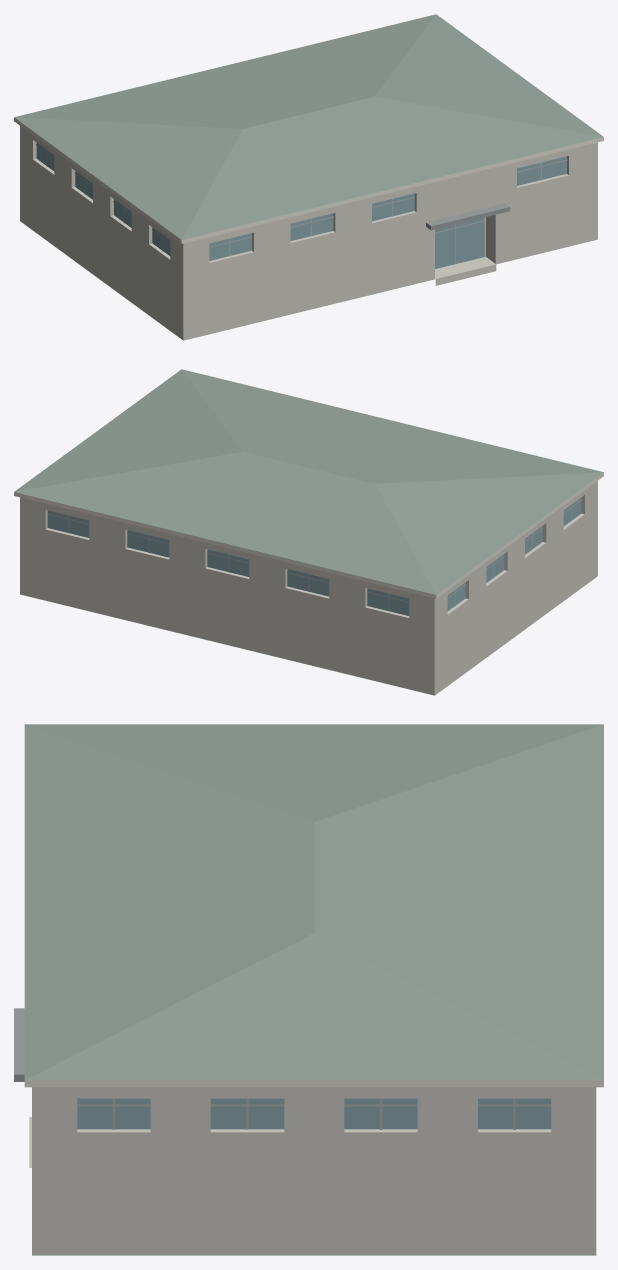
3 renders of one model, top to bottom at view 1: azimuth 30°, elevation 25°; view 2: azimuth 150°, elevation 25°; view 3: azimuth 270°, elevation 25°, orthographic. The views are drawn at different scales.
Parts seen in each view (by area): view 1: geotech__roof, geotech__wall, geotech__glass, geotech__trim, geotech__entranceThreshold_0, geotech__frame, geotech__canopy; view 2: geotech__roof, geotech__wall, geotech__glass, geotech__trim, geotech__frame; view 3: geotech__roof, geotech__wall, geotech__glass, geotech__trim, geotech__frame, geotech__canopy.
Part boxes in pixels (<box>): geotech__roof: <box>14,14,603,340</box>; geotech__wall: <box>20,126,597,340</box>; geotech__glass: <box>36,143,566,268</box>; geotech__trim: <box>14,117,603,243</box>; geotech__entranceThreshold_0: <box>435,257,496,285</box>; geotech__frame: <box>36,144,567,264</box>; geotech__canopy: <box>426,203,509,230</box>; geotech__roof: <box>14,369,603,695</box>; geotech__wall: <box>20,481,597,695</box>; geotech__glass: <box>47,498,581,615</box>; geotech__trim: <box>14,472,603,598</box>; geotech__frame: <box>47,499,581,611</box>; geotech__roof: <box>24,724,603,1255</box>; geotech__wall: <box>32,1087,596,1254</box>; geotech__glass: <box>77,1098,551,1129</box>; geotech__trim: <box>24,1080,603,1087</box>; geotech__frame: <box>77,1098,551,1129</box>; geotech__canopy: <box>14,1008,24,1081</box>.
Size of the model in its own units: 27.9 by 7.8 by 19.54.
